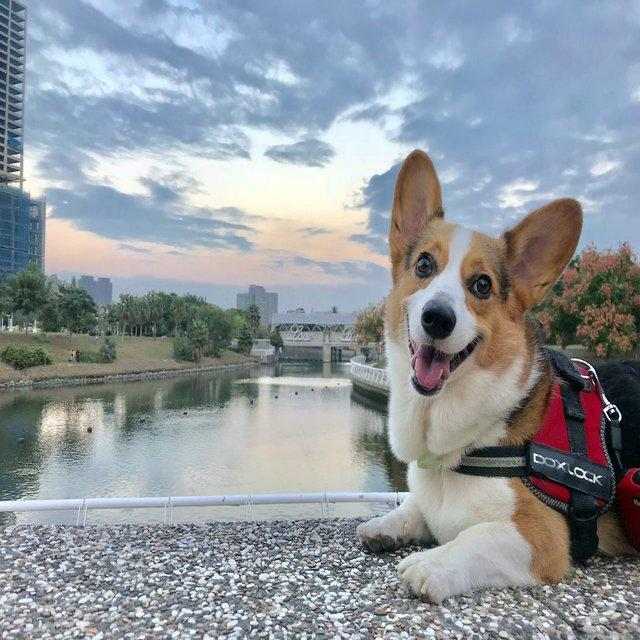corgi: (354, 147, 638, 605)
